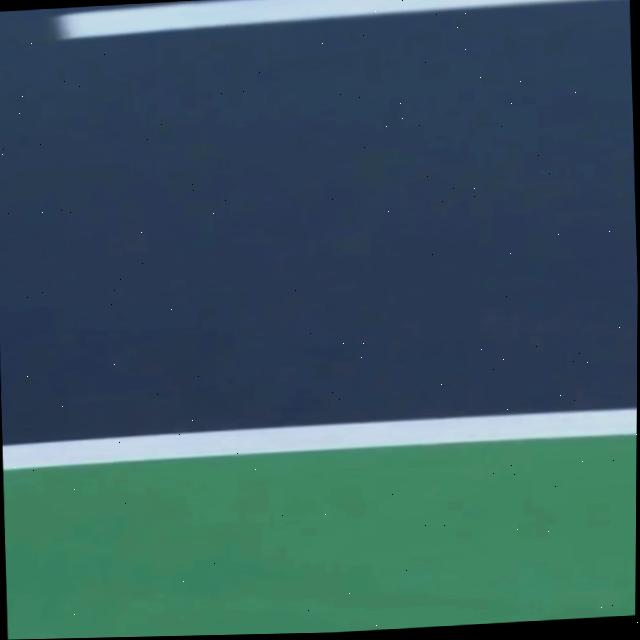center: (54, 0, 582, 38)
right: (1, 407, 637, 470)
